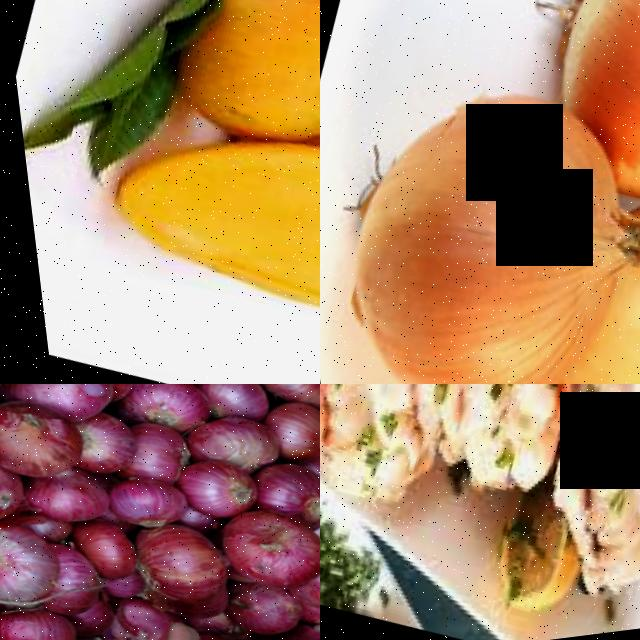mango: (75, 85, 320, 384), (152, 0, 320, 205)
onion: (320, 53, 640, 384), (509, 0, 640, 216), (508, 178, 640, 384), (117, 515, 238, 628), (201, 506, 320, 620), (0, 385, 93, 499), (179, 410, 287, 495), (0, 506, 67, 631), (13, 464, 112, 542), (97, 471, 189, 549), (240, 461, 320, 549), (110, 384, 214, 451), (166, 459, 255, 537), (0, 384, 120, 439), (118, 422, 194, 497), (189, 384, 277, 444), (254, 400, 320, 478), (0, 589, 75, 640), (0, 449, 27, 537)
